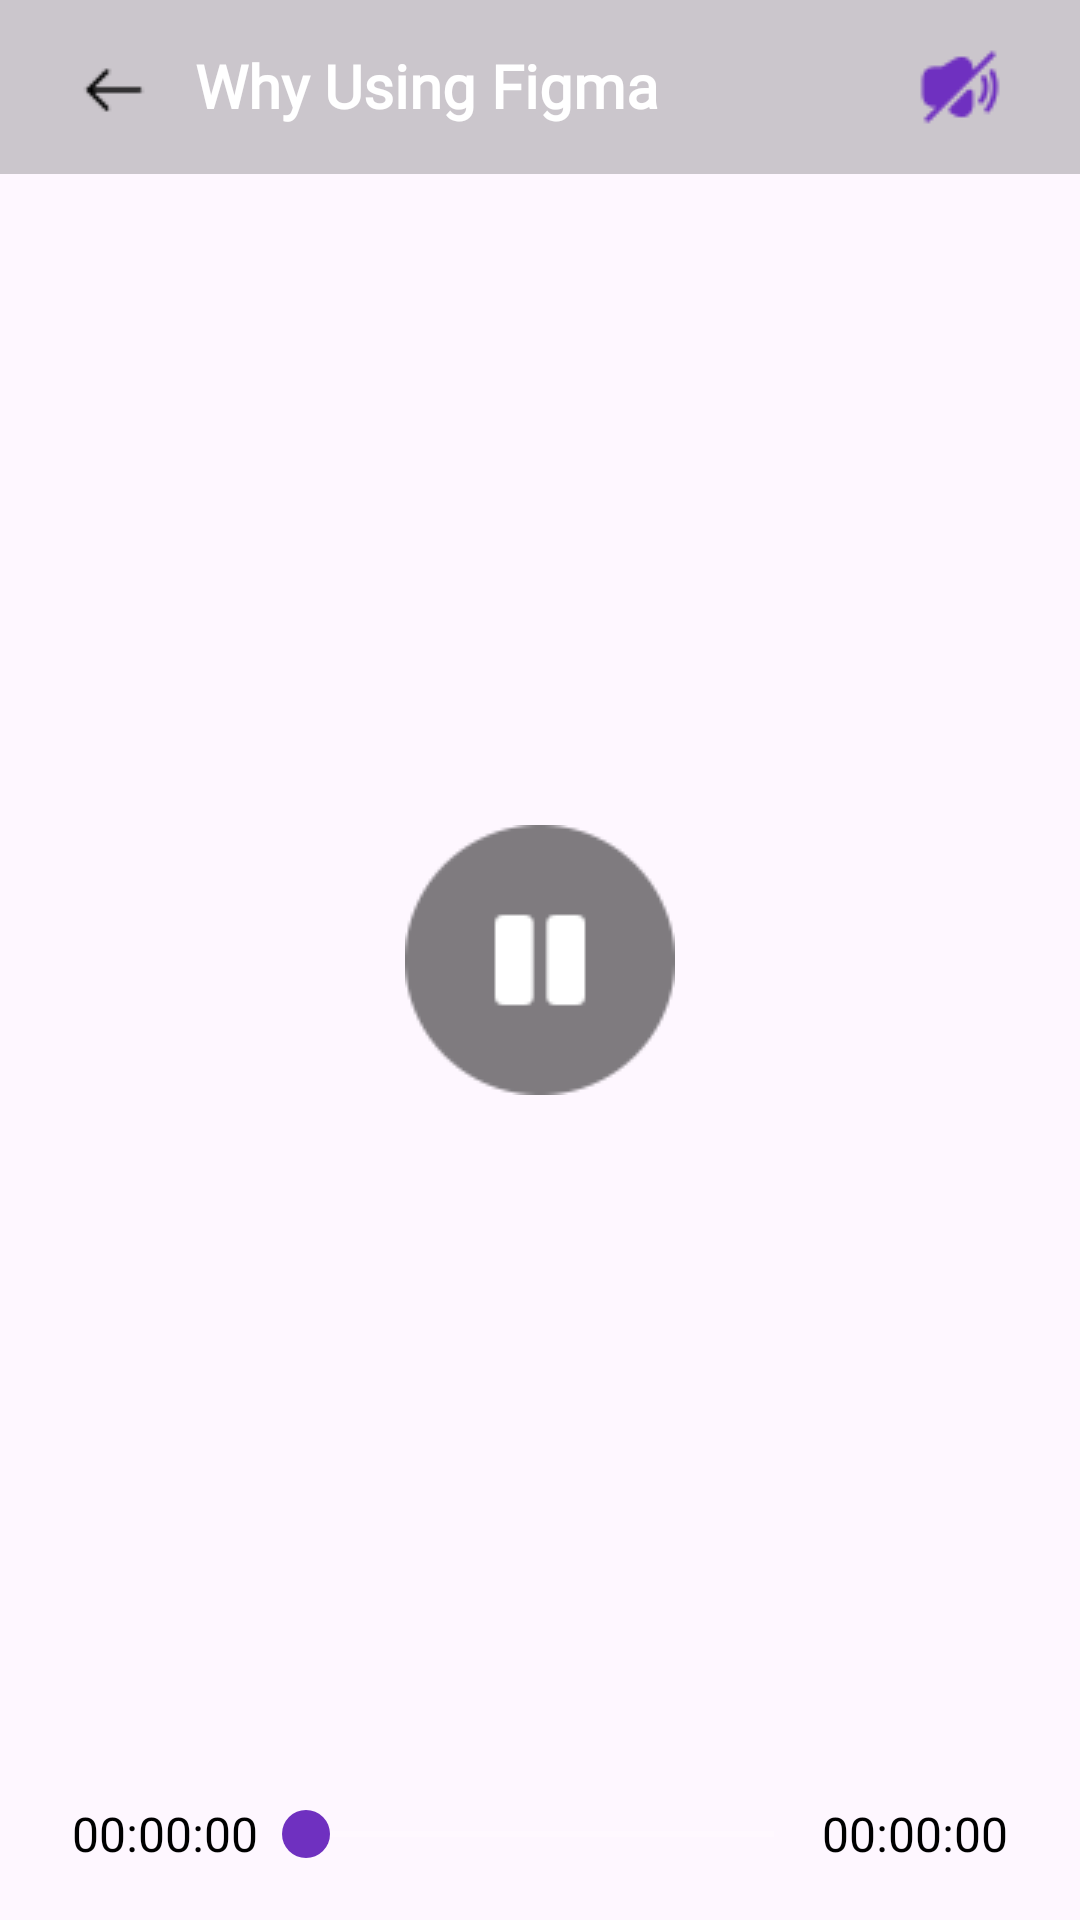

Locate icon controls on the screen. Image size 1080px×1920px, boxes as [left=x1, top=y1, right=x2, bottom=y2].
back arrow: [left=85, top=68, right=143, bottom=112]
mute: [left=920, top=50, right=1000, bottom=124]
pause video: [left=405, top=825, right=675, bottom=1095]
